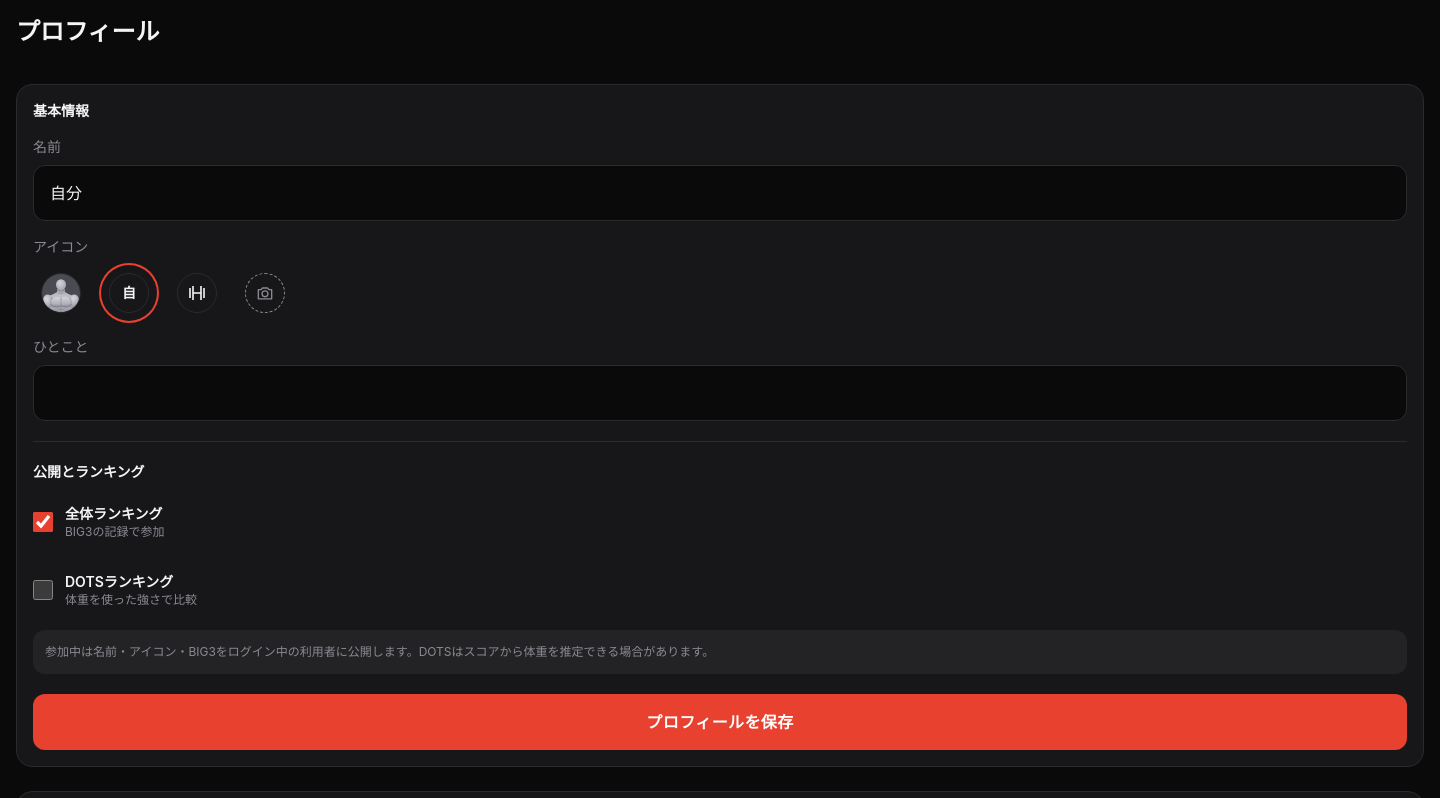
Test case: requires a formula before opting in, then saves profile and DOTS settings
Click the checkbox named "DOTSランキングに参加する": point(43, 590) [33,580,53,600]
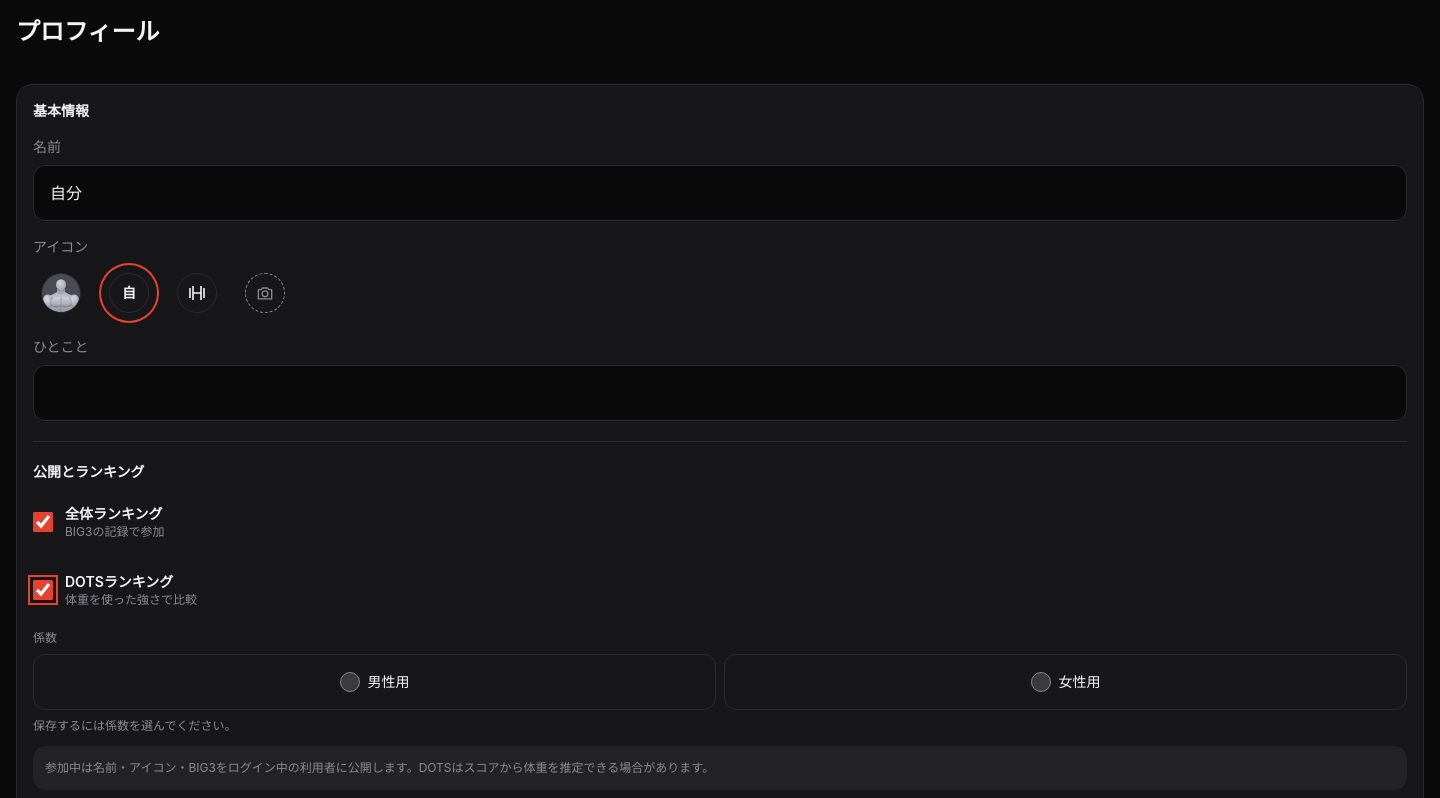
Expected: the text "参加中は名前・アイコン・BIG3をログイン中の利用者に公開します。DOTSはスコアから体重を推定できる場合があります。" is shown, [33,746,1407,790]
Expected: the text "保存するには係数を選んでください。" is shown, [33,718,236,733]
Click the radio button labelled "女性用": point(1040, 682) [1030,672,1050,692]
(page scrolled)
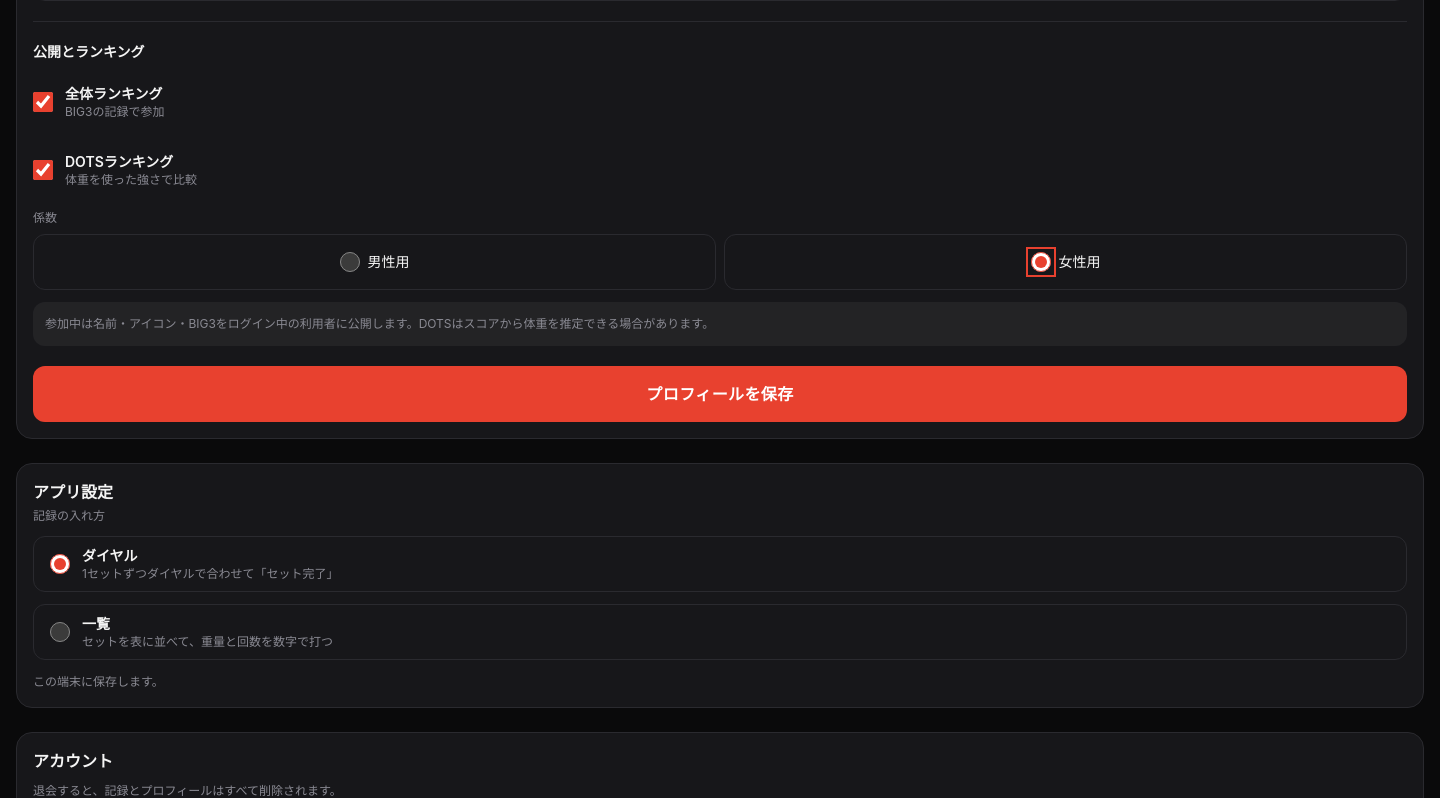
Expected: the text "保存するには係数を選んでください。" is gone
Click the button "プロフィールを保存": point(720, 394) [33,366,1407,422]
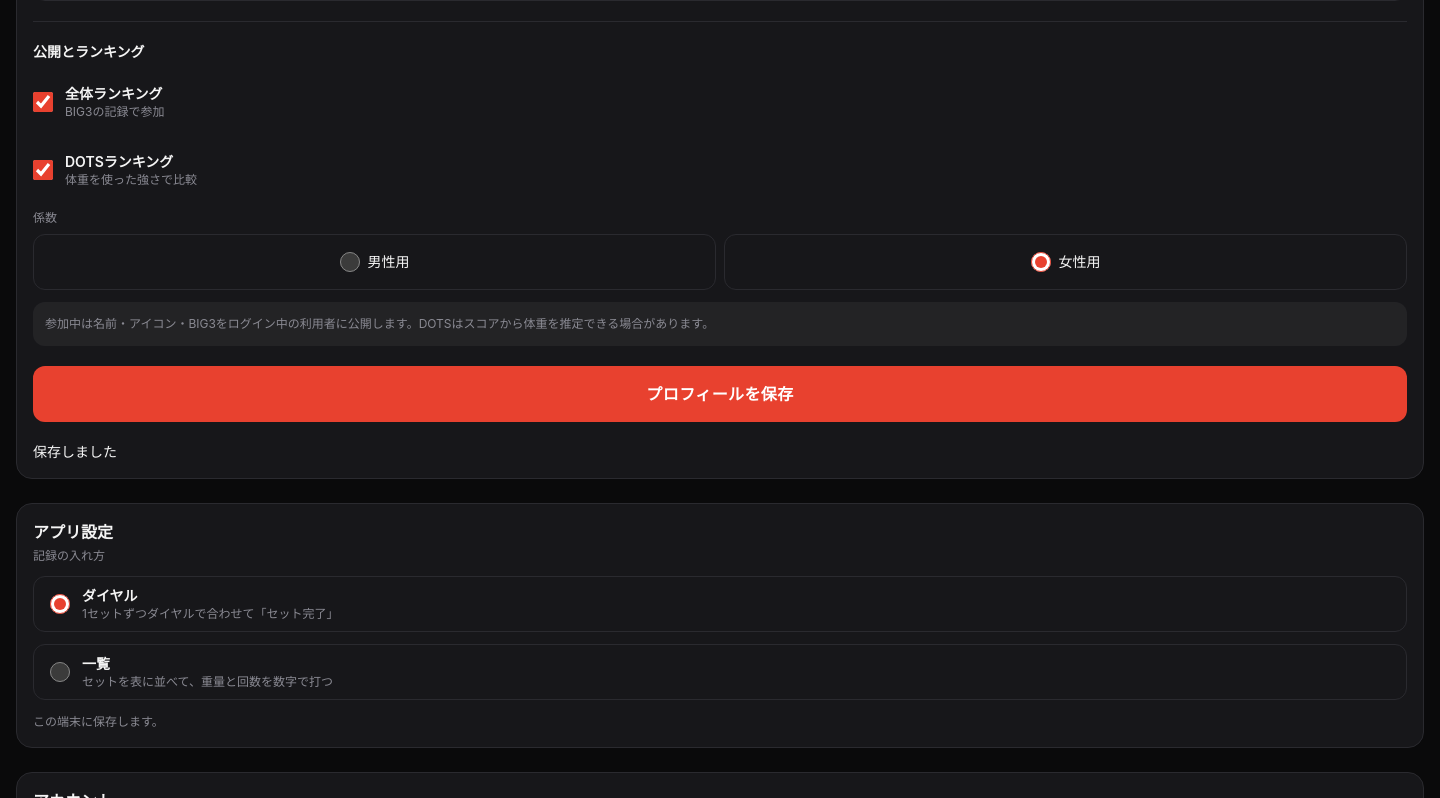
Expected: the message reads "保存しました", [33,442,117,460]
